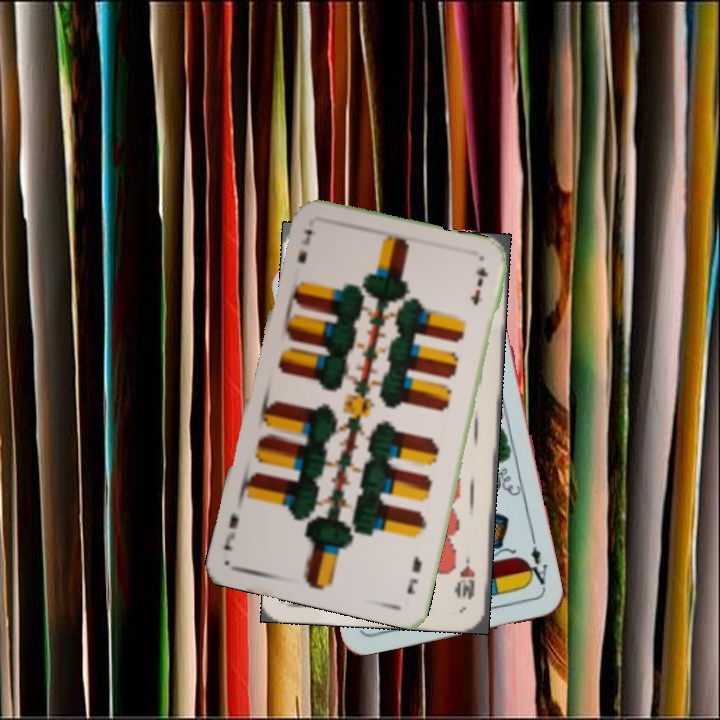E7: (403, 552, 424, 597), (293, 225, 315, 266)
EA: (521, 542, 550, 587)
H10: (455, 552, 478, 603)
